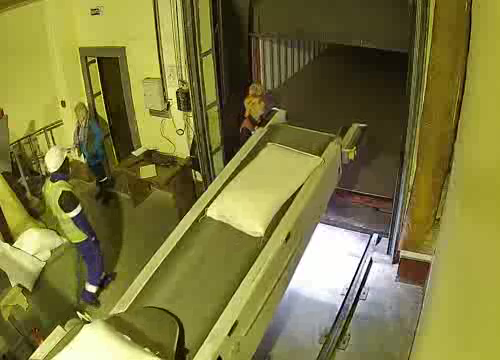bag: (200, 137, 330, 237), (50, 318, 166, 360)
